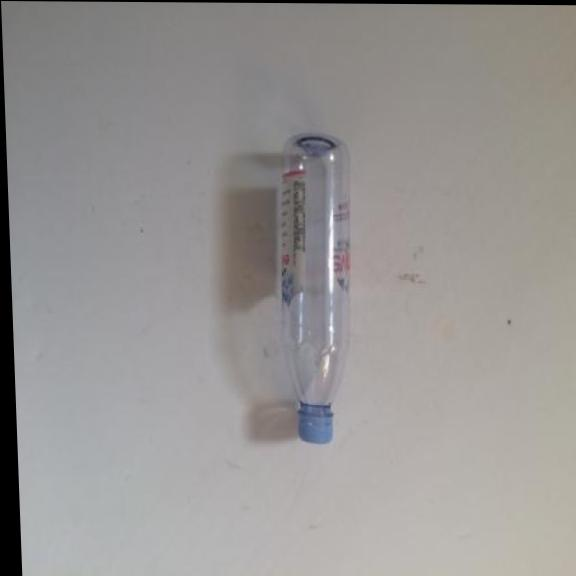Plastik: (263, 127, 365, 452)
